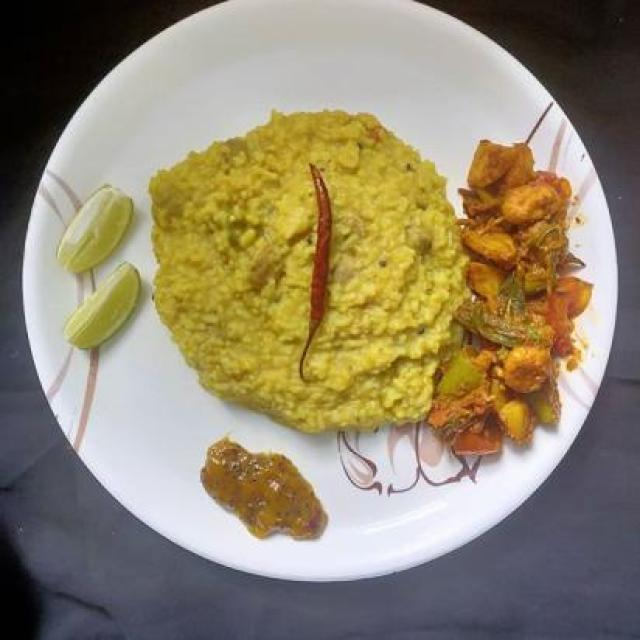khichdi: (144, 122, 458, 428)
